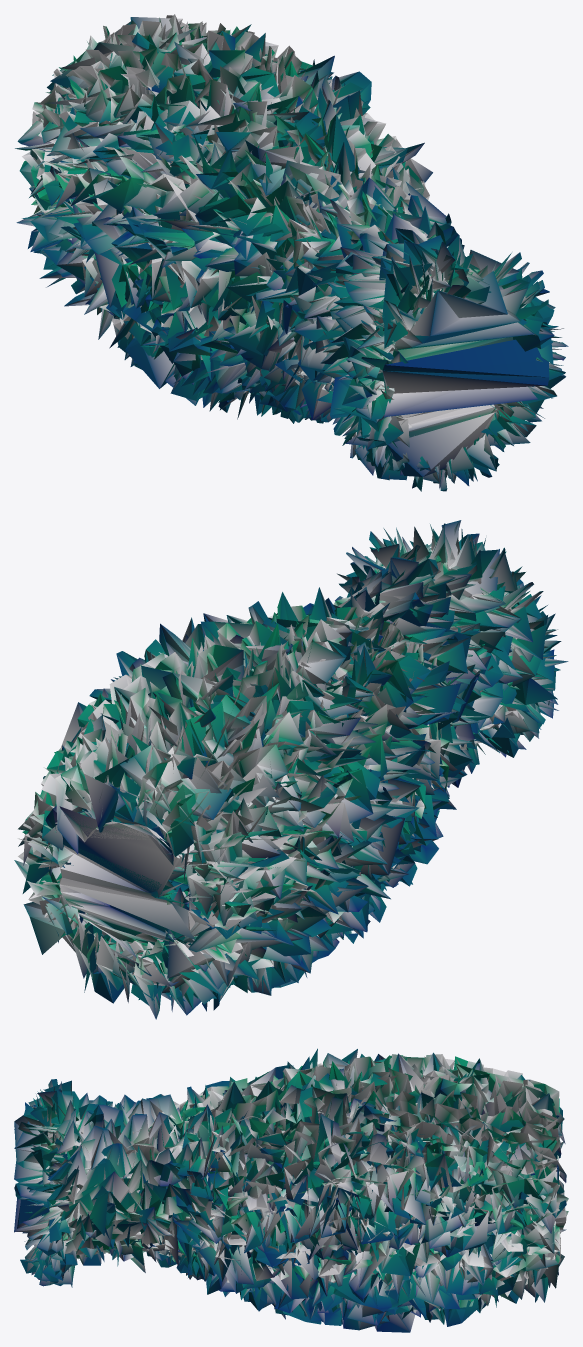
The model's file is lamp_shade_10_final200.obj.
3 renders of one model, top to bottom at view 1: azimuth 30°, elevation 25°; view 2: azimuth 150°, elevation 25°; view 3: azimuth 270°, elevation 25°, orthographic. The views are drawn at different scales.
Size of the model in its own units: 1.02 by 0.9856 by 1.93.
